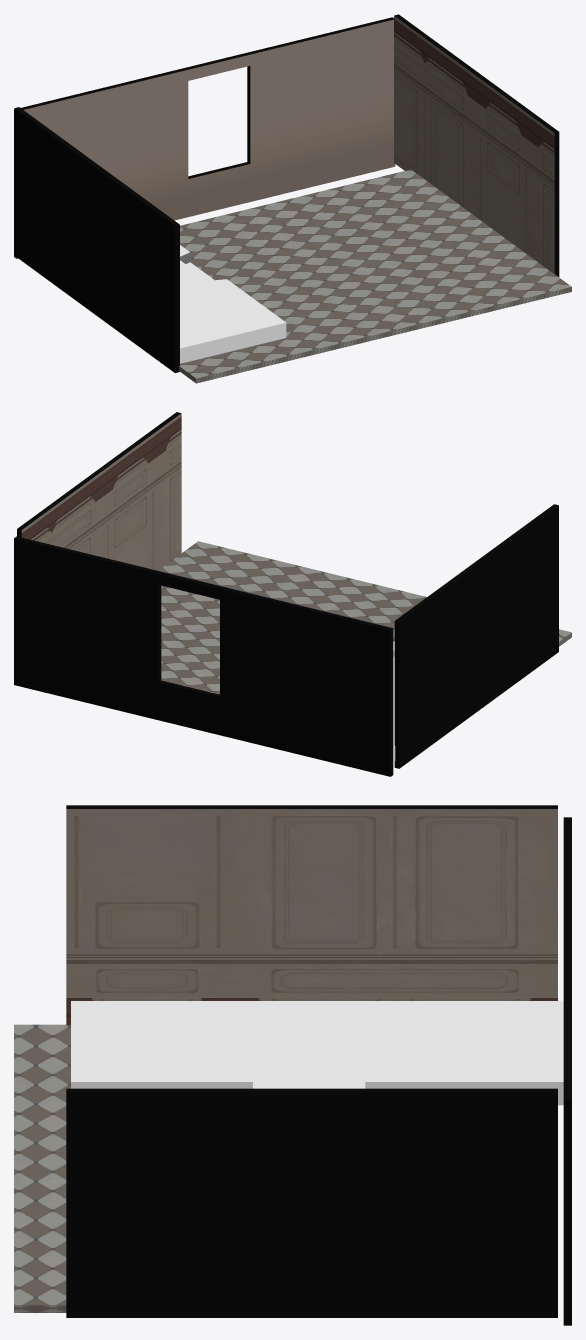
Rendered from Cuarto1.obj.
3 renders of one model, top to bottom at view 1: azimuth 30°, elevation 25°; view 2: azimuth 150°, elevation 25°; view 3: azimuth 270°, elevation 25°, orthographic. The views are drawn at different scales.
Parts seen in each view (by area): view 1: Mesh; view 2: Mesh; view 3: Mesh.
Boxes of the visible parts, bbox=[...] form: Mesh: bbox=[14, 14, 571, 383]; Mesh: bbox=[14, 412, 571, 776]; Mesh: bbox=[14, 805, 571, 1325].
Size of the model in its own units: 12.22 by 4.65 by 10.04.
